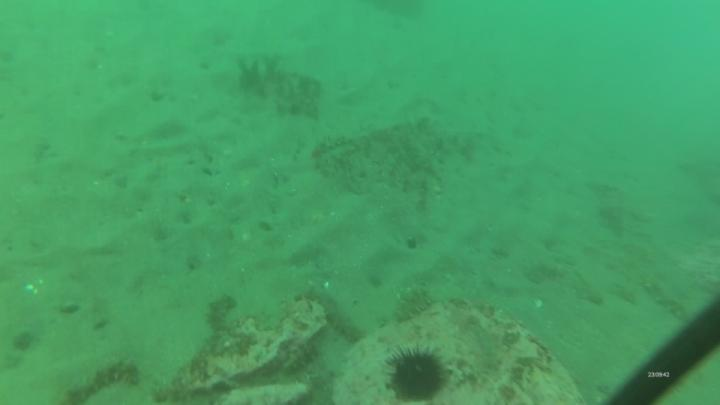echinus: (377, 343, 458, 405)
holothurian: (65, 355, 139, 400), (313, 289, 368, 347), (393, 286, 436, 321), (206, 293, 238, 335)
